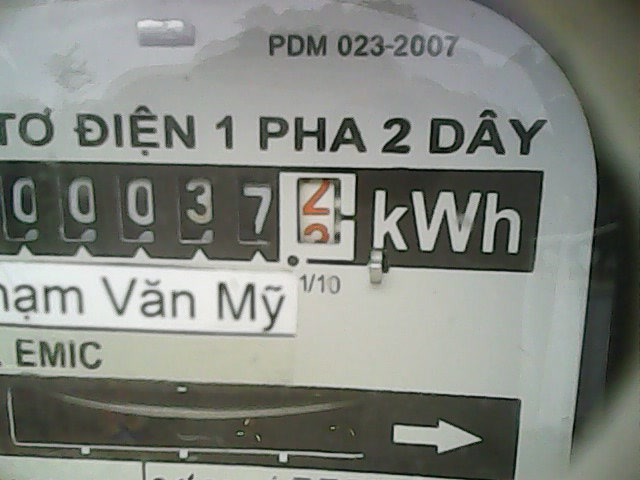phy_plate: (1, 158, 362, 265)
